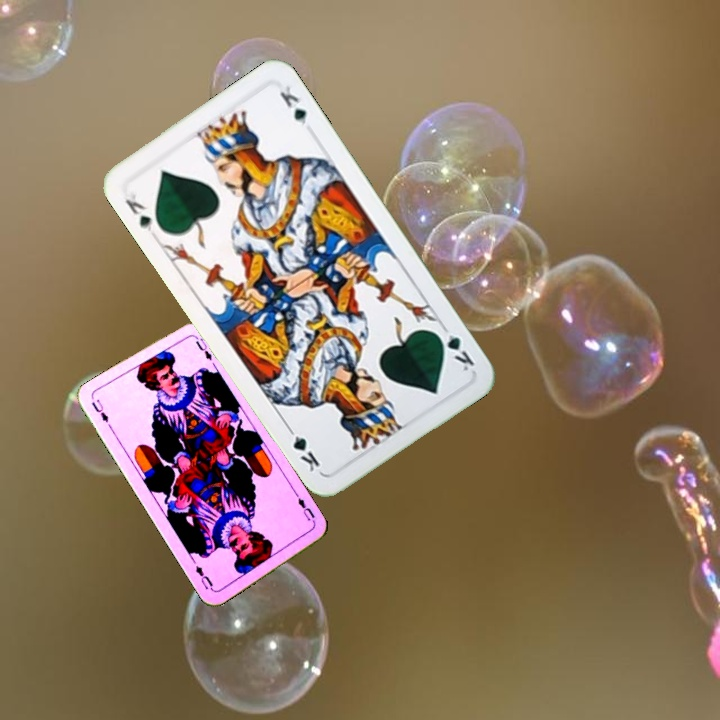EU: (292, 490, 318, 528), (87, 395, 111, 425)
GK: (431, 321, 477, 374), (121, 188, 156, 235)
